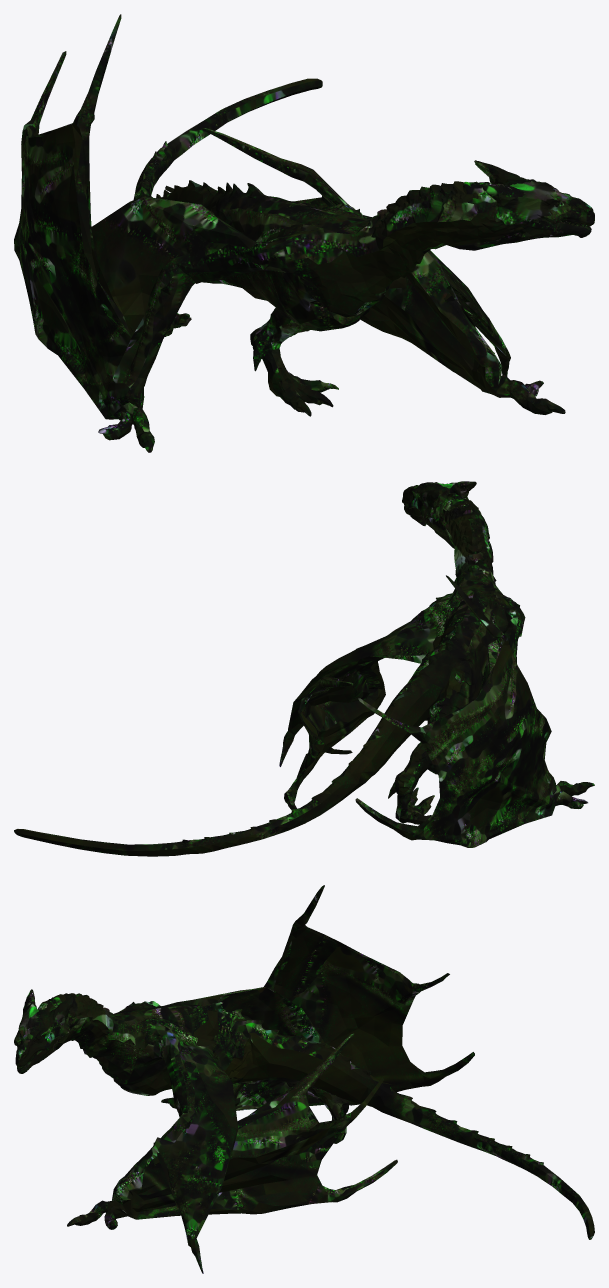
File: frame_0000_uv.obj
3 renders of one model, top to bottom at view 1: azimuth 30°, elevation 25°; view 2: azimuth 150°, elevation 25°; view 3: azimuth 270°, elevation 25°, orthographic. The views are drawn at different scales.
Visible parts, largest first — view 1: pMesh1; view 2: pMesh1; view 3: pMesh1.
Part boxes in pixels (<box>): pMesh1: <box>14,14,594,452</box>; pMesh1: <box>14,481,594,856</box>; pMesh1: <box>14,885,594,1273</box>.
Size of the model in its own units: 1.42 by 1.07 by 2.01.
